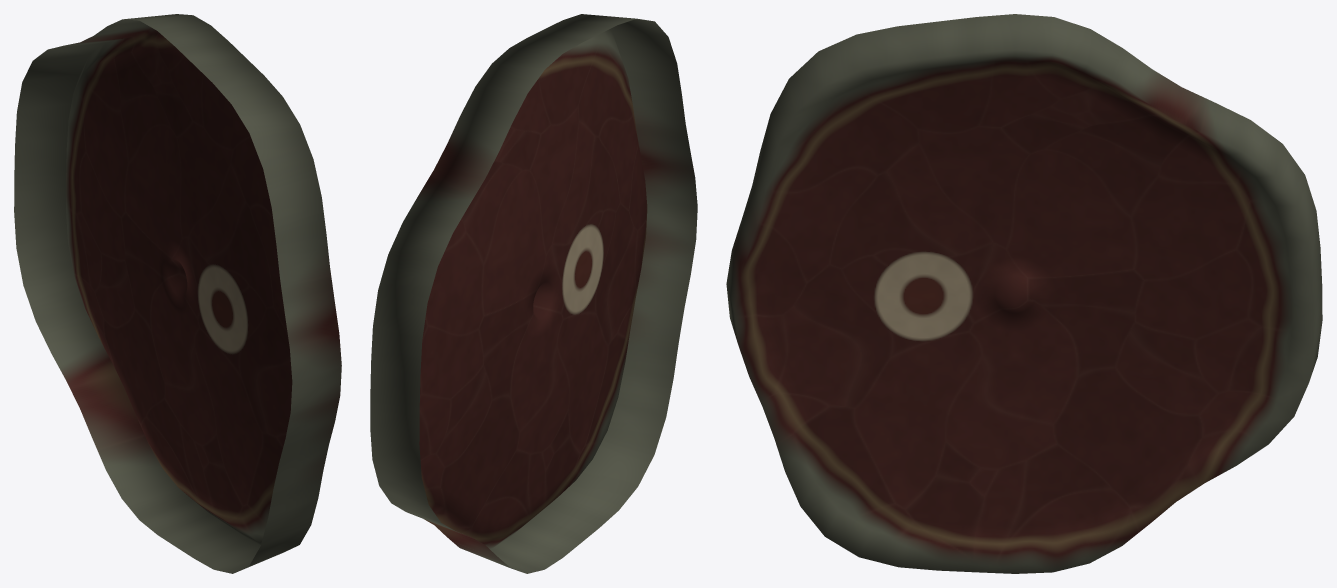
File: SM_WoundCap_Neck_337.fbx
3 views of the same model, side by side, from view 1: azimuth 30°, elevation 25°; view 2: azimuth 150°, elevation 25°; view 3: azimuth 270°, elevation 25° (orthographic). The views are drawn at different scales.
Parts seen in each view (by area): view 1: SM_WoundCap_Neck_337; view 2: SM_WoundCap_Neck_337; view 3: SM_WoundCap_Neck_337.
Part boxes in pixels (box(x1,y1,x2,y2)): SM_WoundCap_Neck_337: box(14, 14, 341, 573); SM_WoundCap_Neck_337: box(370, 14, 697, 573); SM_WoundCap_Neck_337: box(726, 14, 1322, 573).
Bounding box in the file's own units: 0.016 × 0.1443 × 0.1442.
Materials: 1 (1 with a texture image).
